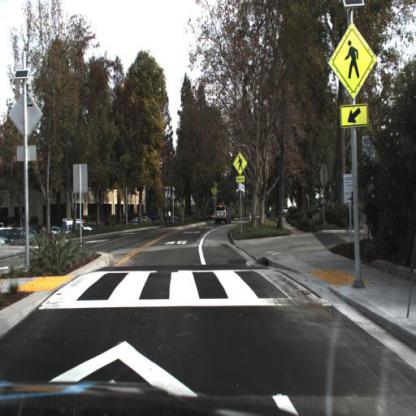car: (215, 206, 231, 227)
pedestrian: (37, 221, 43, 234)
